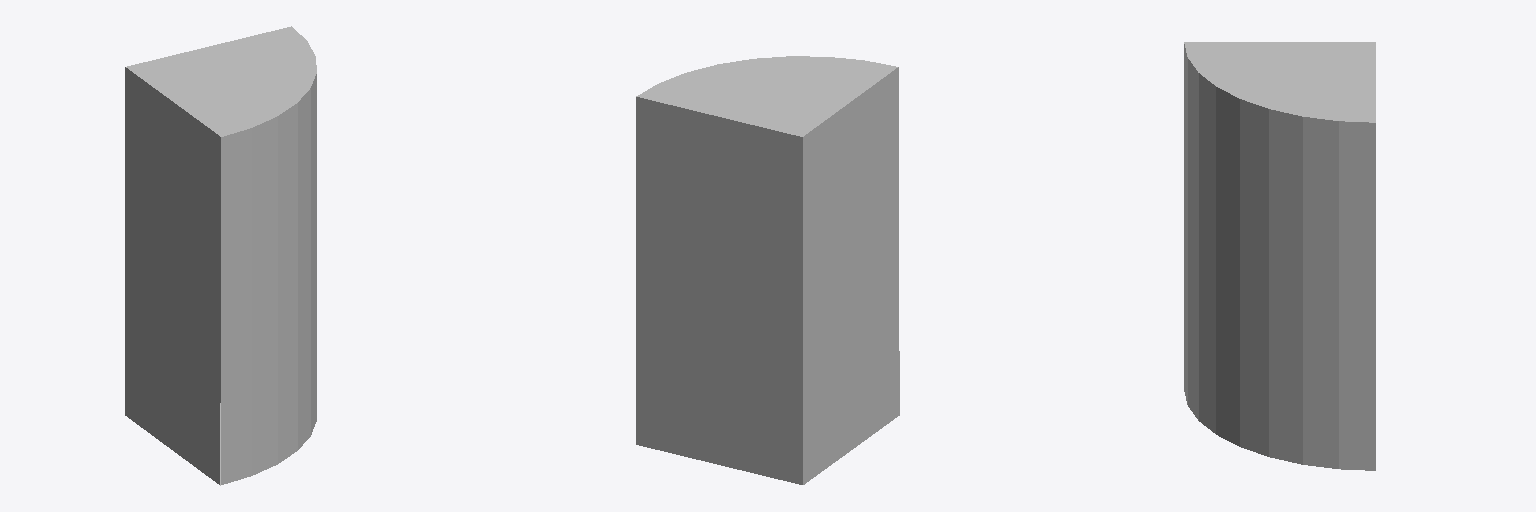
The model's file is quarter_cylinder.obj.
3 renders of one model, left to right at view 1: azimuth 30°, elevation 25°; view 2: azimuth 150°, elevation 25°; view 3: azimuth 270°, elevation 25°, orthographic.
Visible parts, largest first — view 1: Cylinder_Cylinder.001; view 2: Cylinder_Cylinder.001; view 3: Cylinder_Cylinder.001.
Part boxes in pixels (x1,y1,x2,y2): Cylinder_Cylinder.001: (125,26,316,485); Cylinder_Cylinder.001: (636,56,899,484); Cylinder_Cylinder.001: (1184,42,1375,470).
Size of the model in its own units: 1.01 by 2 by 1.